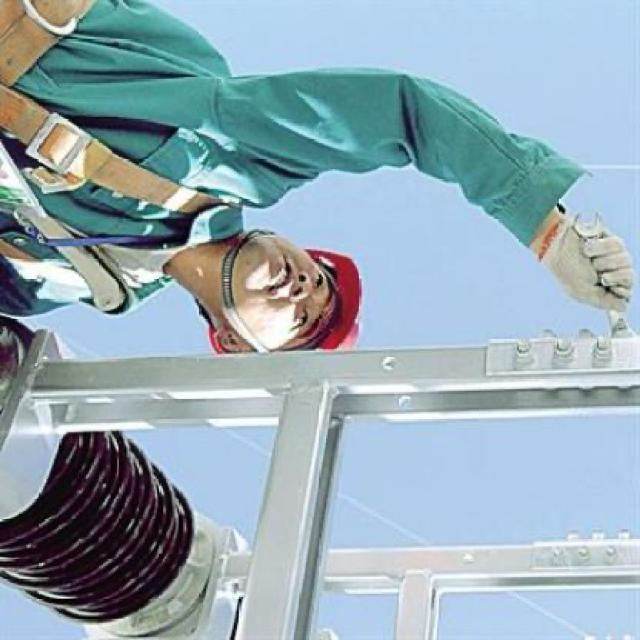con casco: (119, 202, 420, 403)
